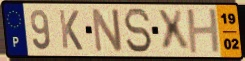9: (29, 8, 52, 53)
H: (185, 7, 223, 55)
K: (57, 8, 85, 52)
N: (90, 7, 124, 54)
S: (122, 7, 154, 55)
X: (155, 8, 192, 54)
